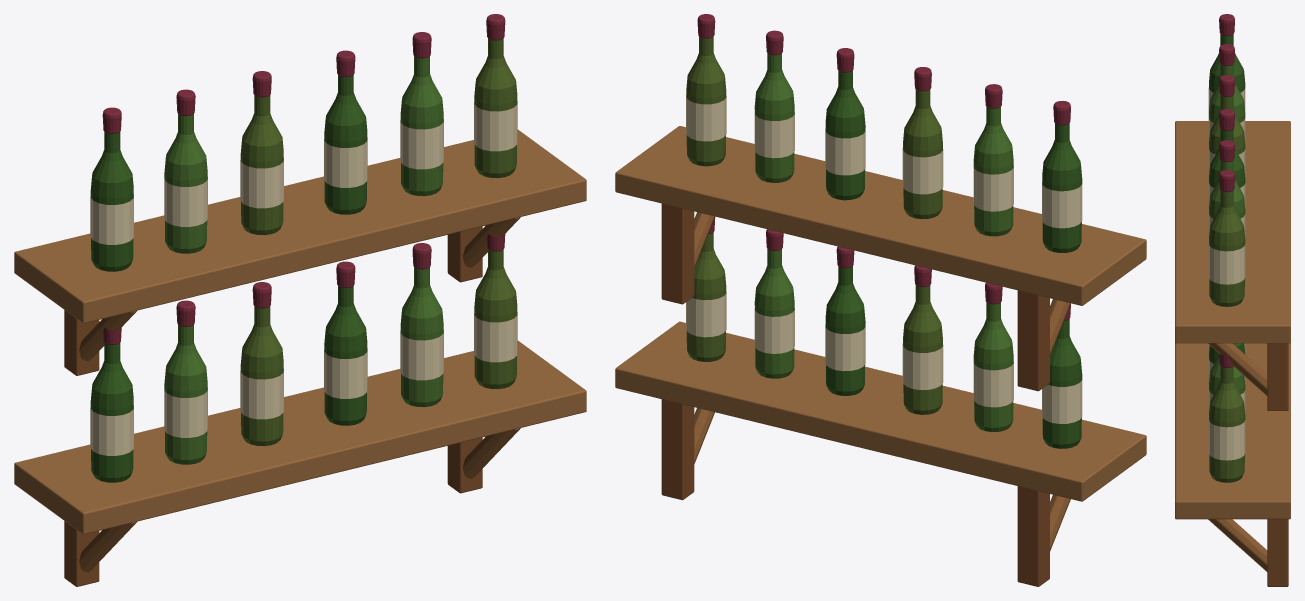
File: wall_wine_shelf.glb
3 views of the same model, side by side, from view 1: azimuth 30°, elevation 25°; view 2: azimuth 150°, elevation 25°; view 3: azimuth 270°, elevation 25° (orthographic). The views are drawn at different scales.
Parts seen in each view (by area): view 1: Wall_Wine_Shelf; view 2: Wall_Wine_Shelf; view 3: Wall_Wine_Shelf.
Part boxes in pixels (x1=…): Wall_Wine_Shelf: x1=14, y1=14, x2=586, y2=586; Wall_Wine_Shelf: x1=615, y1=14, x2=1146, y2=586; Wall_Wine_Shelf: x1=1175, y1=14, x2=1290, y2=586.
Size of the model in its own units: 2.05 by 1.91 by 0.49.
